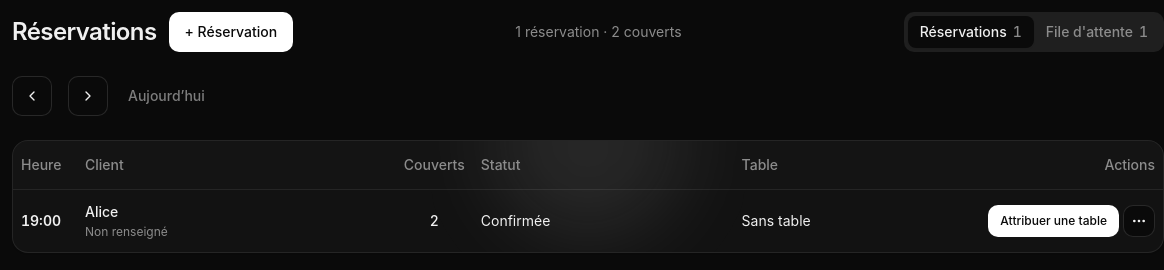
Test: ReservationsPage › cliquer sur Allouer appelle le endpoint et met à jour la ligne
Click the button "Attribuer une table" at point(1054, 220), box 988,204 -> 1119,236
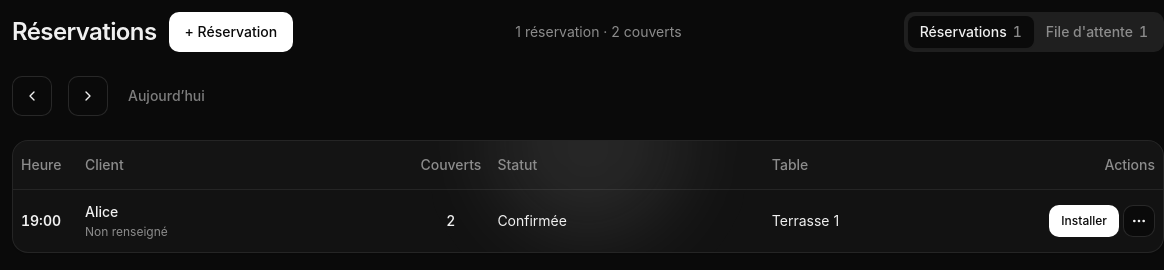
Expected: the text "Terrasse 1" is shown, 764,189 -> 1023,252
Expected: the text "Sans table" is gone
Expected: the button "Attribuer une table" is gone
